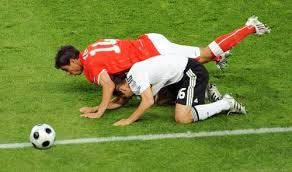fall: (65, 20, 255, 115)
